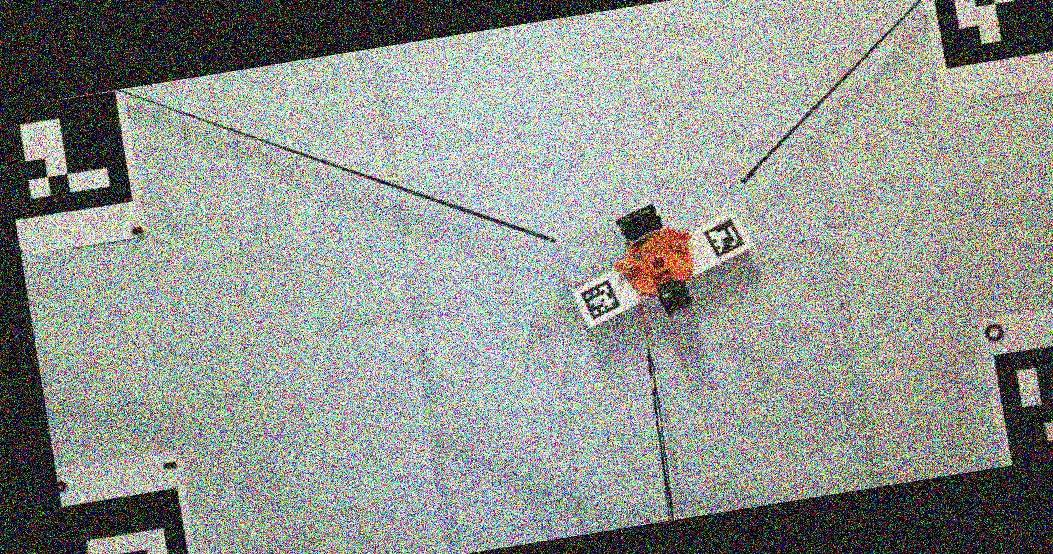robot: (614, 205, 695, 314)
